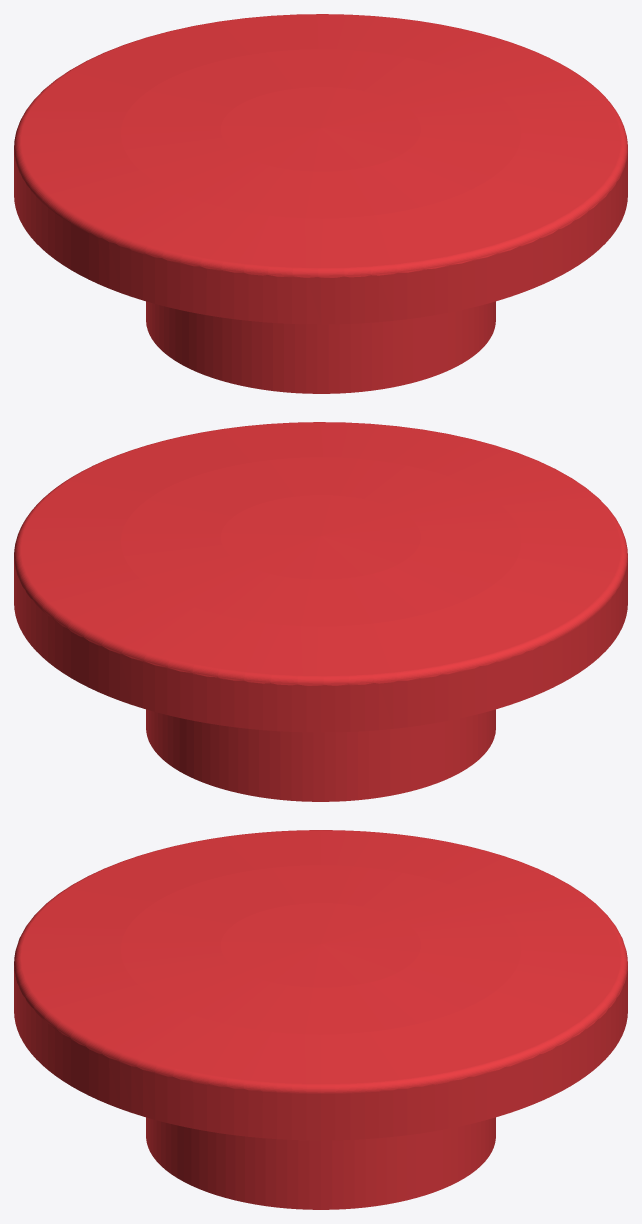
Rendered from button.dae.
3 views of the same model, one above another, from view 1: azimuth 30°, elevation 25°; view 2: azimuth 150°, elevation 25°; view 3: azimuth 270°, elevation 25° (orthographic).
Visible parts, largest first — view 1: 5e7d02ac32b1bd0f908fb8c1; view 2: 5e7d02ac32b1bd0f908fb8c1; view 3: 5e7d02ac32b1bd0f908fb8c1.
Boxes of the visible parts, x1=… form: 5e7d02ac32b1bd0f908fb8c1: x1=14, y1=14, x2=627, y2=393; 5e7d02ac32b1bd0f908fb8c1: x1=14, y1=422, x2=627, y2=801; 5e7d02ac32b1bd0f908fb8c1: x1=14, y1=830, x2=627, y2=1209.
Size of the model in its own units: 0.04 by 0.04 by 0.0138.
